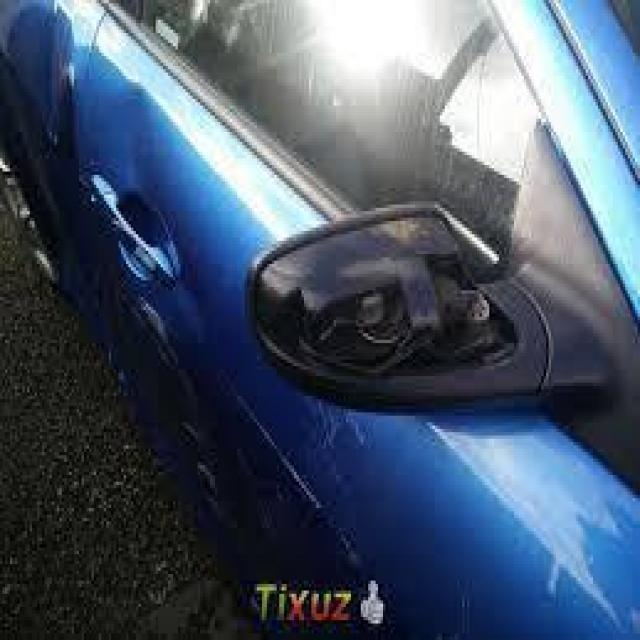damaged: (144, 307, 368, 571), (252, 208, 531, 389)
